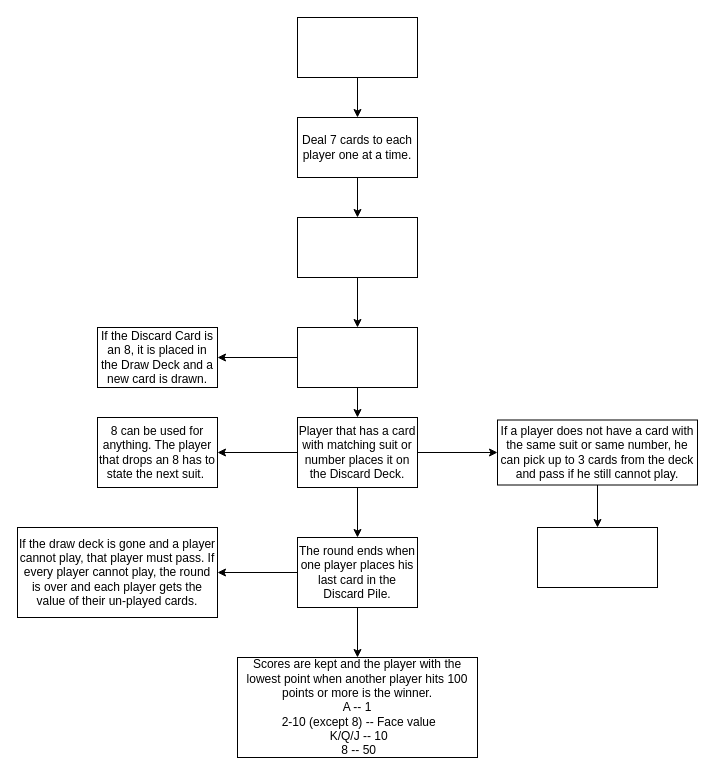
This 715x775 diagram has some shape labels left out. Here are the shapes that lost their labels. From the top down, the centre of each, then its label:
the point at 357,47: Create Shuffled Deck
the point at 357,247: The rest of the deck is the "Draw Deck."
the point at 357,357: Top card from the draw deck is placed face up in the "Discard Deck."
the point at 597,557: If the player draws a card that can be played, that card is played.
